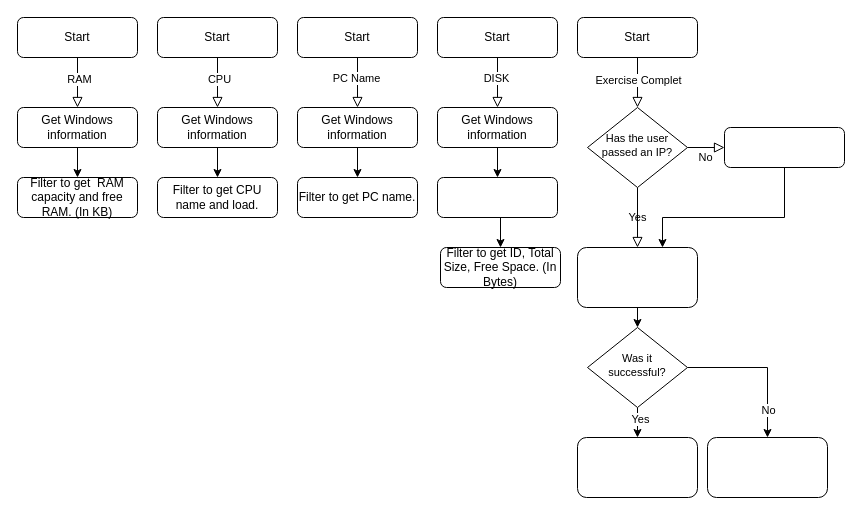
Image size: 862x515. Some labels were removed from this diagram. The shapes that lost their labels are listed below. From the top down, each one's centre as x and y in pixels, then its label:
At (x=784, y=147): "Use default 127.0.0.1".
At (x=497, y=197): "Filter to get disks of level 3 (Excluding Pendrives, CDs...)".
At (x=637, y=277): "Get all properties & stats of the IP given".
At (x=637, y=467): "Show all in a detailed TUI table.".
At (x=767, y=467): "Show an error message".
